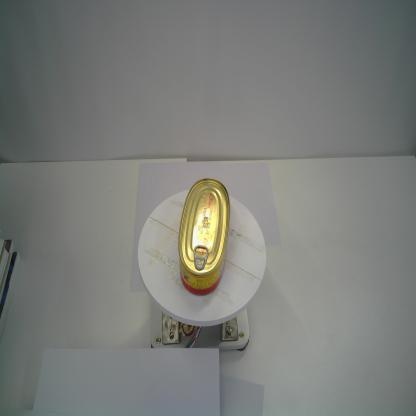Canned Food: (177, 177, 231, 297)
